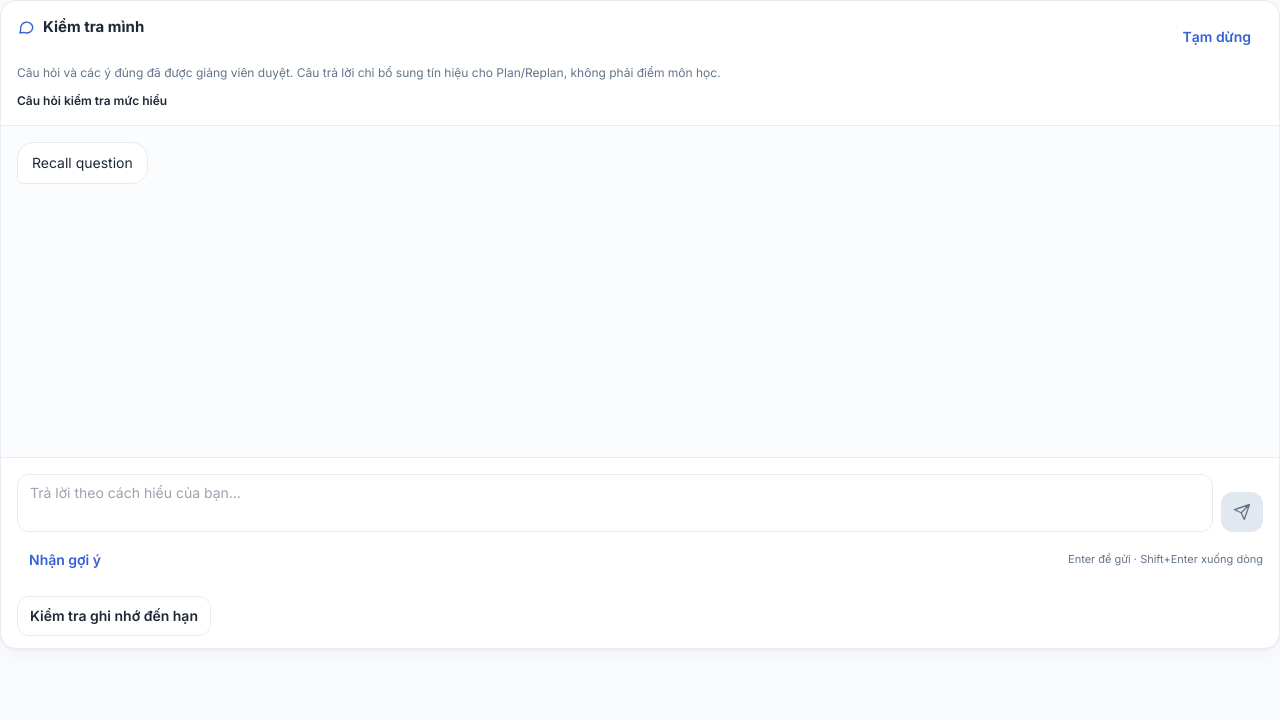
it: Adaptive Do checkpoint › opens a due probe inside Do, without adding a phase
Click the button "Kiểm tra ghi nhớ đến hạn". click: (114, 616)
box: [17,596,211,636]
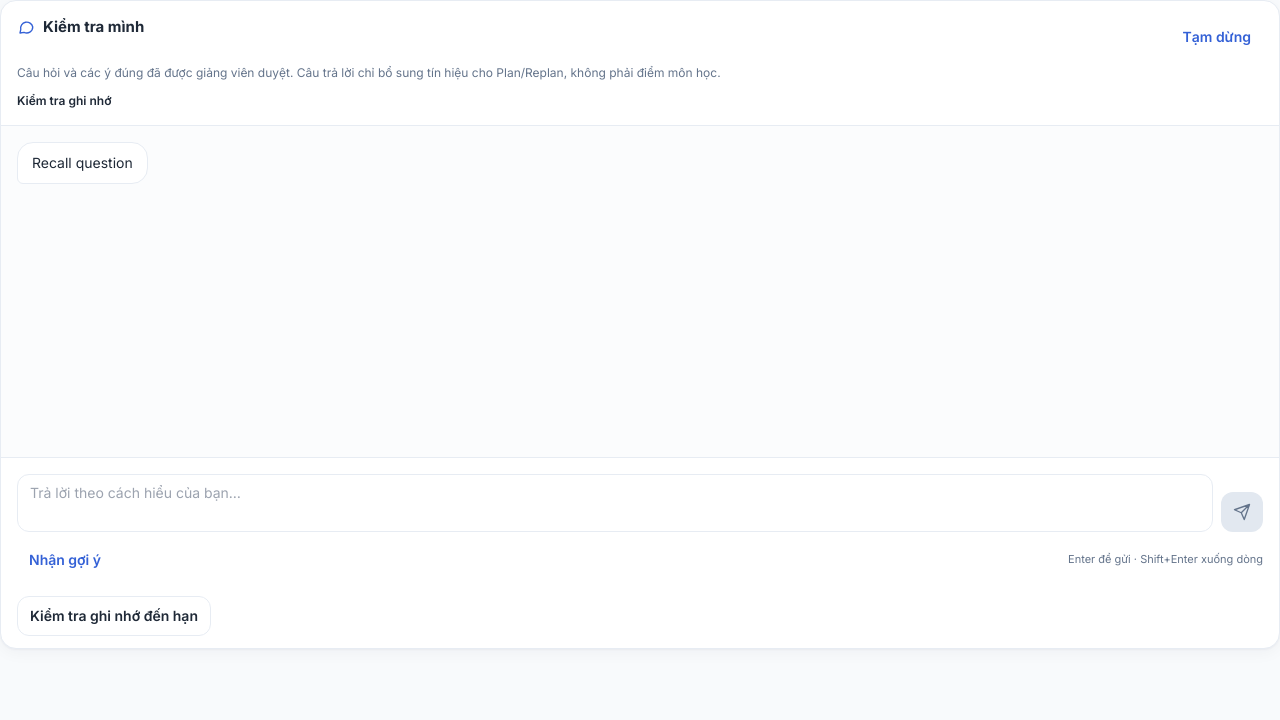
Result: the text "Kiểm tra ghi nhớ" is shown at [17,93,111,108]
